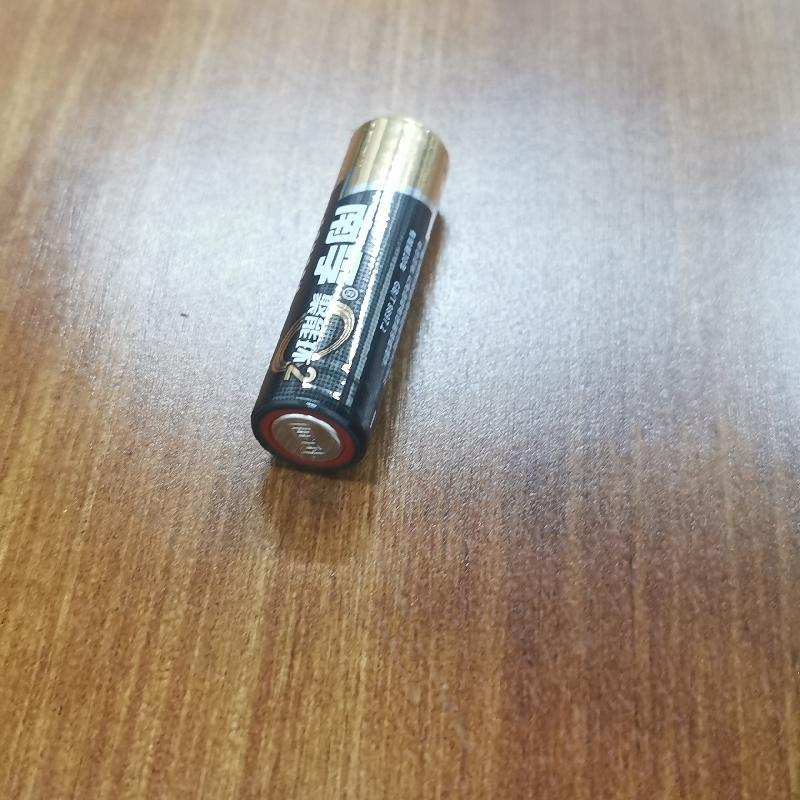battery: (245, 111, 452, 472)
